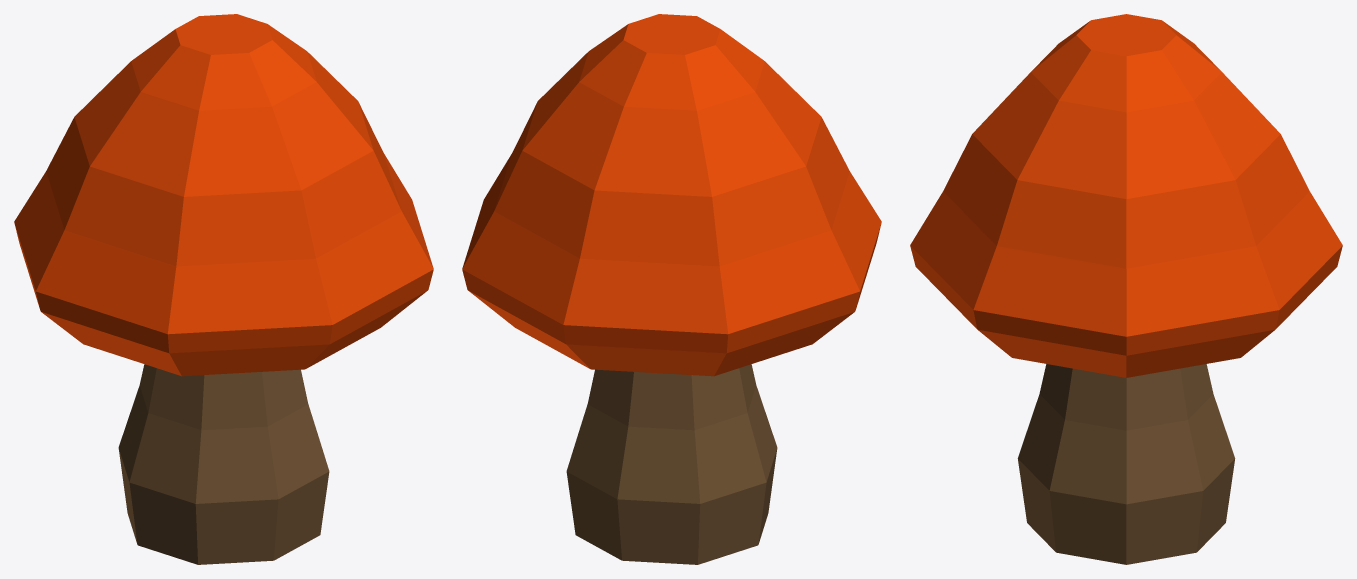
The model's file is StraightRedMushroom.fbx.
3 views of the same model, side by side, from view 1: azimuth 30°, elevation 25°; view 2: azimuth 150°, elevation 25°; view 3: azimuth 270°, elevation 25° (orthographic).
Parts seen in each view (by area): view 1: StraightRedMushroom; view 2: StraightRedMushroom; view 3: StraightRedMushroom.
Part boxes in pixels (<box>): StraightRedMushroom: <box>14,14,433,564</box>; StraightRedMushroom: <box>462,14,881,564</box>; StraightRedMushroom: <box>910,14,1342,564</box>.
Bounding box in the file's own units: 399 × 496 × 399.
